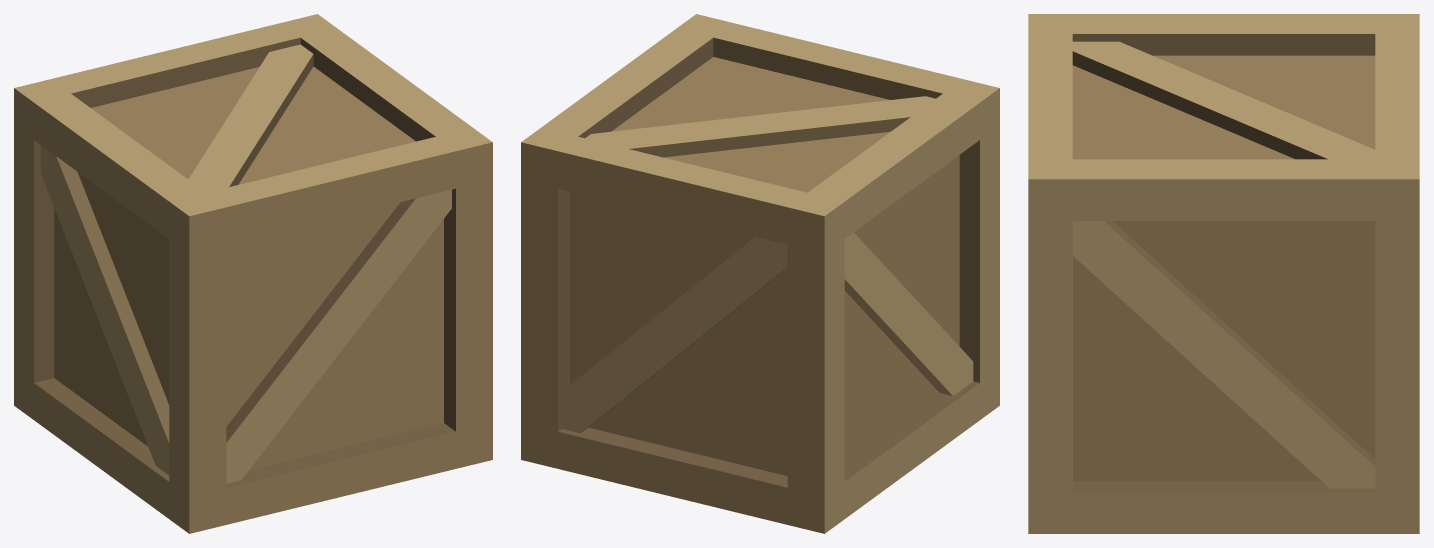
Rendered from SM_Prop_Crate_01.fbx.
3 views of the same model, side by side, from view 1: azimuth 30°, elevation 25°; view 2: azimuth 150°, elevation 25°; view 3: azimuth 270°, elevation 25° (orthographic). The views are drawn at different scales.
Visible parts, largest first — view 1: SM_Prop_Crate_01; view 2: SM_Prop_Crate_01; view 3: SM_Prop_Crate_01.
Part boxes in pixels (x1,y1,x2,y2): SM_Prop_Crate_01: (14,14,492,533); SM_Prop_Crate_01: (521,14,999,533); SM_Prop_Crate_01: (1028,14,1419,533).
Size of the model in its own units: 1.55 by 1.55 by 1.55.
